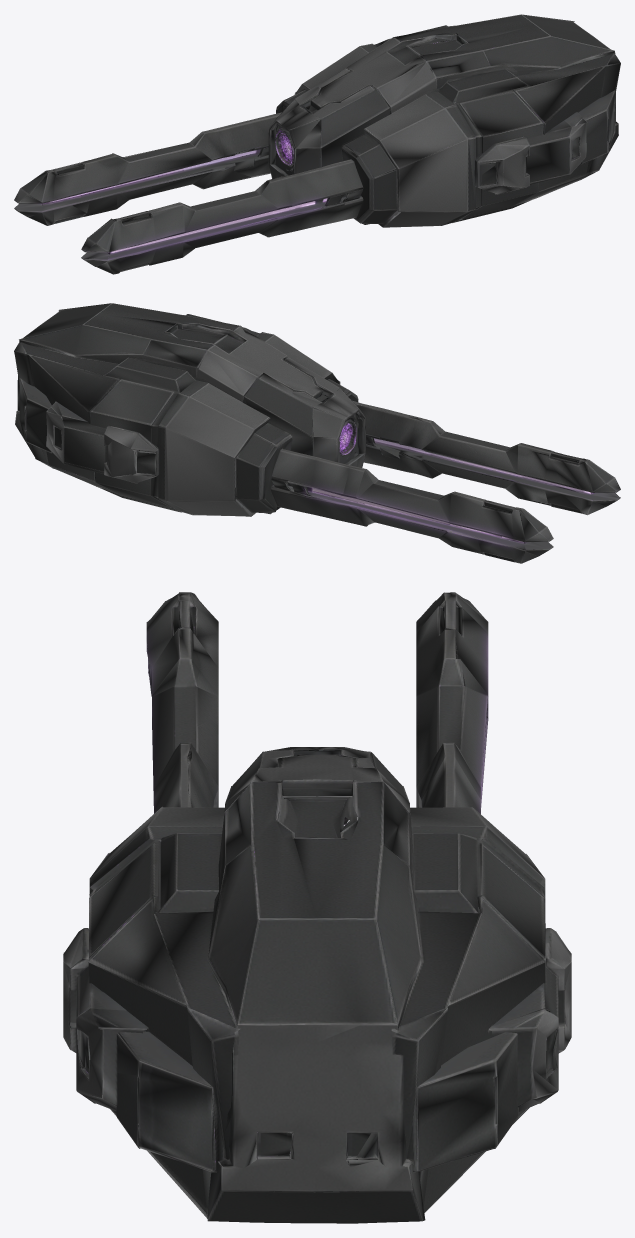
File: boss_plasma_turret.glb
3 views of the same model, one above another, from view 1: azimuth 30°, elevation 25°; view 2: azimuth 150°, elevation 25°; view 3: azimuth 270°, elevation 25° (orthographic). The views are drawn at different scales.
Parts seen in each view (by area): view 1: boss_plasma_turret; view 2: boss_plasma_turret; view 3: boss_plasma_turret.
Part boxes in pixels (x1,y1,x2,y2): boss_plasma_turret: [14, 14, 620, 274]; boss_plasma_turret: [14, 303, 620, 563]; boss_plasma_turret: [63, 592, 571, 1223].
Bounding box in the file's own units: 1.65 × 0.464 × 0.6659.
1 material, 1 textured.
